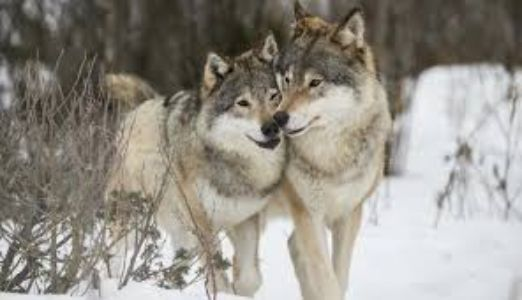wolf: (121, 38, 282, 299), (276, 1, 384, 300)
